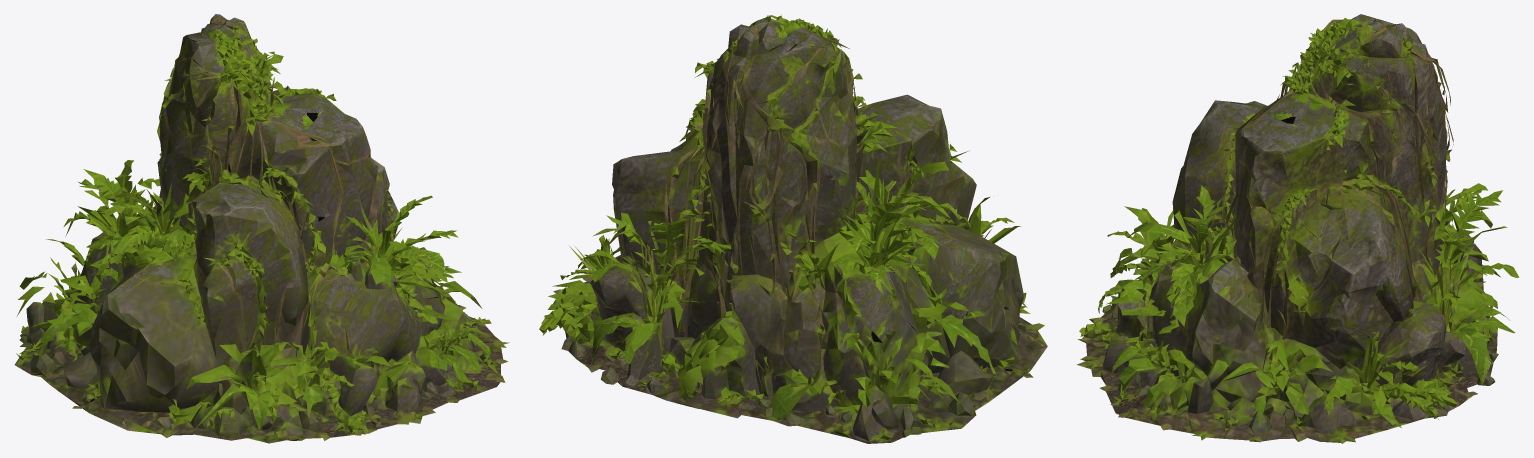
Rendered from Stone_Sanctua.rt.glb.
The picture shows the model from 3 angles, left to right: view 1: azimuth 30°, elevation 25°; view 2: azimuth 150°, elevation 25°; view 3: azimuth 270°, elevation 25°; orthographic projection. The views are drawn at different scales.
Parts seen in each view (by area): view 1: output_unwrapped; view 2: output_unwrapped; view 3: output_unwrapped.
Boxes of the visible parts, x1,y1,x2,y2 form: output_unwrapped: [14, 14, 509, 443]; output_unwrapped: [539, 15, 1047, 443]; output_unwrapped: [1077, 14, 1519, 443].
Bounding box in the file's own units: 1.86 × 1.35 × 1.7.
1 material, 1 textured.
